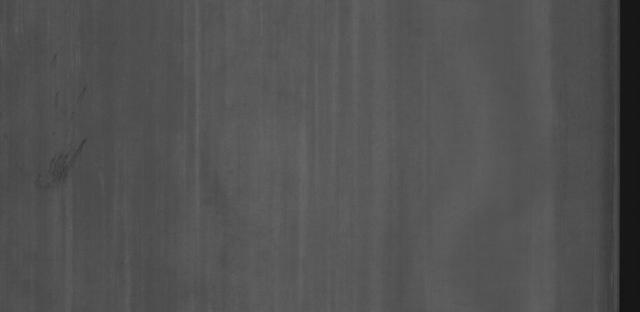water_spot: (35, 128, 91, 192)
